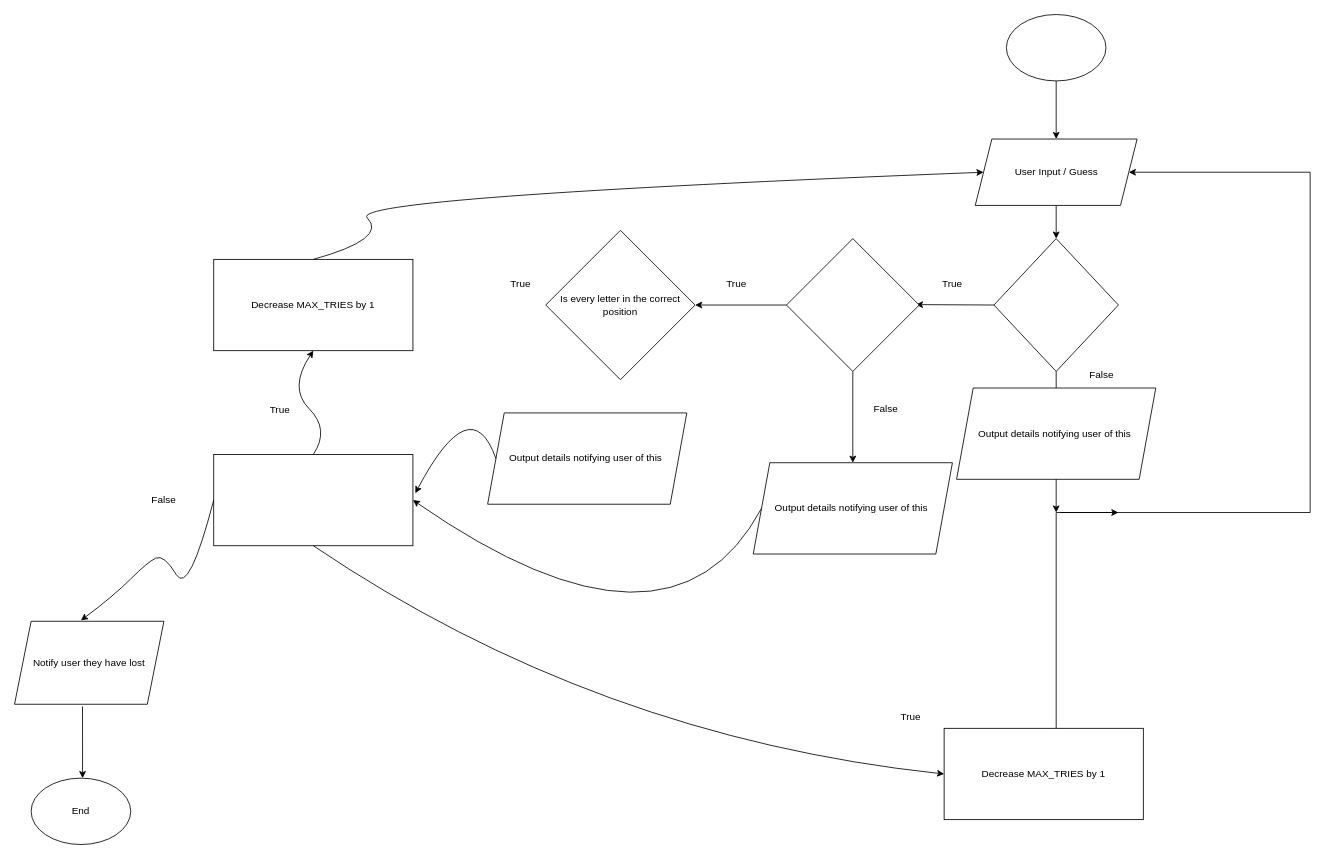
Image size: 1331x859. Some labels were removed from this diagram. The shapes that lost their labels are listed below. From the top down, each one's box as (x1, y1, x2, y2) in pixels, then its label:
(1006, 14, 1106, 81): Start
(786, 238, 919, 371): Is it in the correct position / index
(993, 238, 1118, 371): Check if letter exists in the target word
(213, 454, 413, 546): while MAX_TRIES > 0
